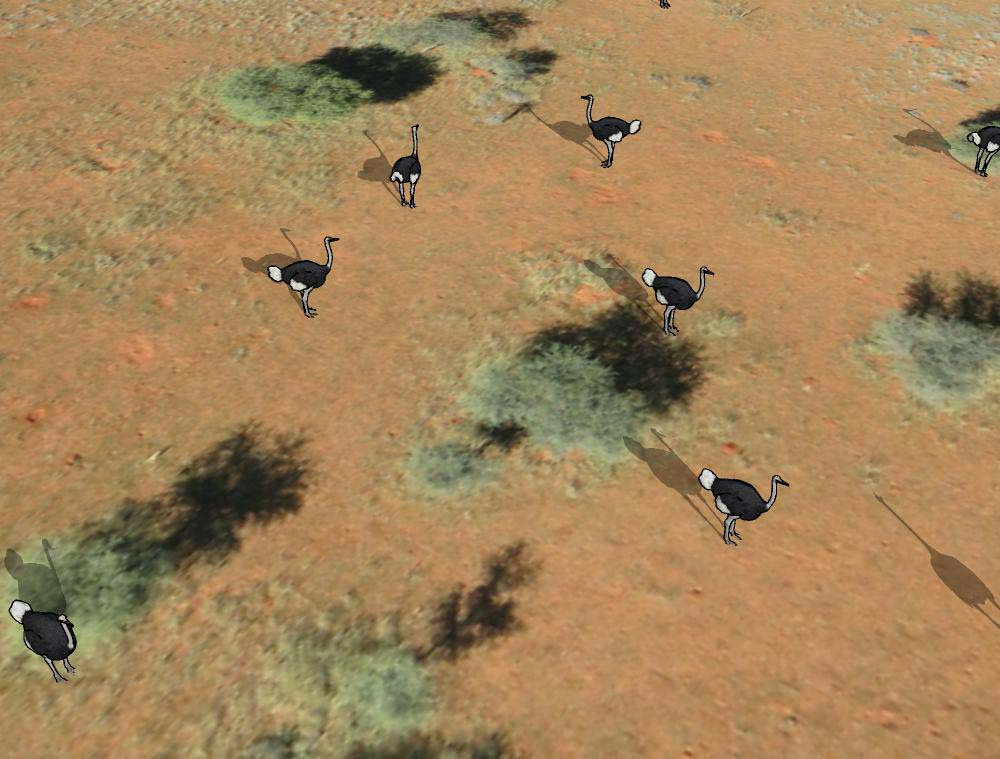springbok: (698, 463, 789, 543), (5, 594, 83, 683), (265, 234, 339, 320), (643, 257, 716, 343), (579, 90, 643, 170), (390, 120, 422, 213), (966, 118, 1000, 178)
